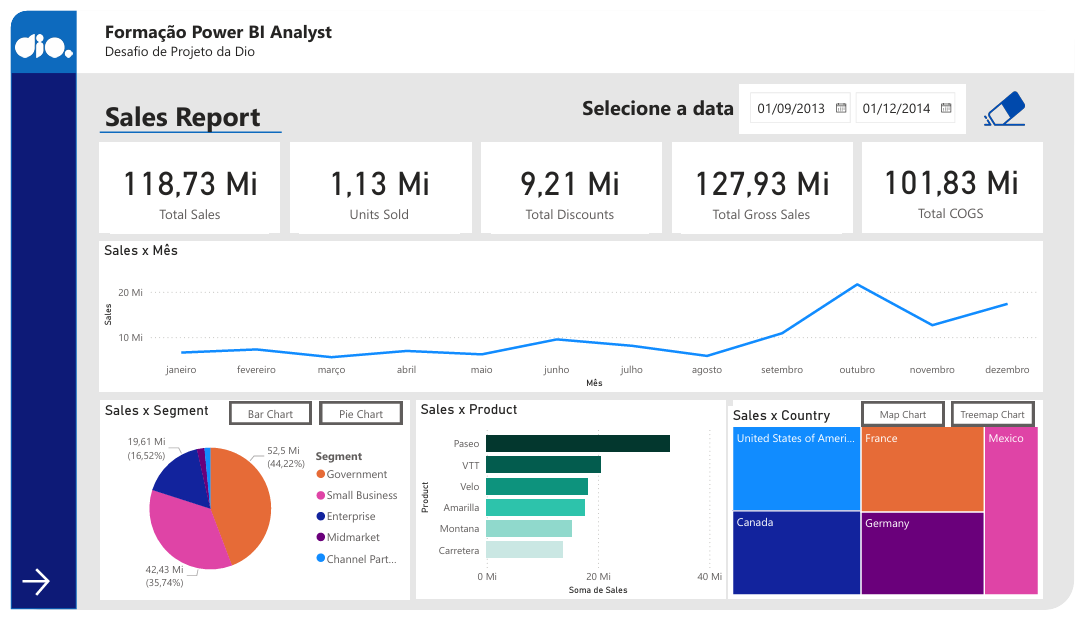

The dashboard page shown, as its layout file describes it:
{"tool":"powerbi","page":{"name":"Página 1","canvas":[1280,720],"ordinal":0},"visuals":[{"type":"shape","box":[0,0,1280.2,721.4],"z":0},{"type":"shape","box":[106.6,133.9,218.9,24.5],"z":0,"group":"g5"},{"type":"shape","box":[106.6,158.4,217,109.4],"z":0,"group":"g1"},{"type":"pieChart","title":"Sales x Segment","fields":{"Category":["financials.Segment"],"Y":["Sum(financials. Sales)"]},"box":[107.7,469.9,372.6,239.3],"z":0,"group":"g4"},{"type":"shape","box":[0,0,79.2,720],"z":1000},{"type":"textbox","box":[682.6,93.6,194.4,49],"z":1000,"group":"g2"},{"type":"textbox","box":[108,97.9,217.4,54.7],"z":1000,"group":"g5"},{"type":"shape","box":[335.6,158.4,218.7,109.4],"z":1000,"group":"g1"},{"type":"clusteredBarChart","title":"Sales x Segment","fields":{"Y":["Sum(financials. Sales)"],"Category":["financials.Segment"]},"box":[106.6,469.4,374.4,239],"z":1000,"group":"g4"},{"type":"map","title":"Sales x Country","fields":{"Category":["financials.Country"],"Size":["Sum(financials. Sales)"]},"box":[868.3,477.2,372.9,231.3],"z":1000,"group":"g3"},{"type":"actionButton","title":"Botão - Treemap","box":[1132.8,470.4,99.6,30.3],"z":1500,"group":"g3"},{"type":"shape","box":[0,0,79.2,74.9],"z":2000},{"type":"slicer","fields":{"Values":["financials.Date"]},"box":[877,87.8,272.2,59],"z":2000,"group":"g2"},{"type":"shape","box":[566.3,158.4,217,109.4],"z":2000,"group":"g1"},{"type":"actionButton","title":"Botão - Pie","box":[371.2,470.1,99,28],"z":2000,"group":"g4"},{"type":"actionButton","title":"Botão - Map","box":[1024.6,470.4,99.6,30.3],"z":2000,"group":"g3"},{"type":"image","title":"Logo_Dio","box":[0,8.6,79.2,66.2],"z":3000},{"type":"shape","box":[795.3,158.4,217,109.4],"z":3000,"group":"g1"},{"type":"actionButton","title":"Botão - Bar","box":[262.3,470.1,99,28],"z":3000,"group":"g4"},{"type":"image","title":"Clean","box":[1149.2,87.8,92.2,59],"z":3500,"group":"g2"},{"type":"shape","box":[79.2,0,1201,74.9],"z":4000},{"type":"actionButton","box":[1163.6,87.8,69.1,59],"z":4000,"group":"g2"},{"type":"shape","box":[1024.3,158.4,217,109.4],"z":4000,"group":"g1"},{"type":"textbox","box":[108,4.3,362.9,66.2],"z":5000},{"type":"card","fields":{"Values":["Sum(financials.COGS)"]},"box":[1034,158.4,194.4,109.4],"z":5000,"group":"g1"},{"type":"group","id":"g1","title":"Cartões","box":[106.6,158.4,1134.7,109.9],"z":6000},{"type":"card","fields":{"Values":["Sum(financials.Gross Sales)"]},"box":[806.7,158.9,193.1,109.4],"z":6000,"group":"g1"},{"type":"card","fields":{"Values":["Sum(financials.Discounts)"]},"box":[577.7,158.9,189.7,109.4],"z":7000,"group":"g1"},{"type":"shape","box":[108,277.9,1134.7,181.4],"z":7000},{"type":"card","fields":{"Values":["Sum(financials.Units Sold)"]},"box":[347,158.9,193.1,109.4],"z":8000,"group":"g1"},{"type":"shape","box":[108,469.4,373,239],"z":8000},{"type":"card","fields":{"Values":["Sum(financials. Sales)"]},"box":[119.7,158.9,191.4,109.4],"z":9000,"group":"g1"},{"type":"shape","box":[488.2,469.4,373,239],"z":9000},{"type":"shape","box":[869.8,469.4,373,239],"z":10000},{"type":"lineChart","title":"Sales x Mês","fields":{"Category":["financials.Date.Variation.Hierarquia de datas.Mês"],"Y":["Sum(financials. Sales)"]},"box":[106.6,277.9,1134.7,181.4],"z":11000},{"type":"clusteredBarChart","title":"Sales x Product","fields":{"Y":["Sum(financials. Sales)"],"Category":["financials.Product"]},"box":[488.2,469.4,373,239],"z":12000},{"type":"group","id":"g2","title":"Filtro por data","box":[682.6,87.8,558.7,59],"z":13000},{"type":"group","id":"g3","title":"Sales x Country","box":[864.3,470.4,378.3,238],"z":14000},{"type":"group","id":"g4","title":"Sales x Segment","box":[106.6,469.4,374.4,239.8],"z":15000},{"type":"group","id":"g5","title":"Title Report","box":[106.6,97.9,218.9,60.5],"z":16000},{"type":"actionButton","title":"Botão - Seta","box":[8.2,666.4,56.1,42.9],"z":17000}]}

Visuals, with their boxes on the page's 1280x720 design canvas (x1, y1, x2, y2). These are canvas units, not pixel positions in the 1086x629 screenshot, which may show the page scaled, cropped or inside an application window:
shape: detection(0, 0, 1280, 721)
shape: detection(107, 134, 326, 158)
shape: detection(107, 158, 324, 268)
"Sales x Segment" pieChart: detection(108, 470, 480, 709)
shape: detection(0, 0, 79, 720)
textbox: detection(683, 94, 877, 143)
textbox: detection(108, 98, 325, 153)
shape: detection(336, 158, 554, 268)
"Sales x Segment" clusteredBarChart: detection(107, 469, 481, 708)
"Sales x Country" map: detection(868, 477, 1241, 708)
"Botão - Treemap" actionButton: detection(1133, 470, 1232, 501)
shape: detection(0, 0, 79, 75)
slicer - financials.Date: detection(877, 88, 1149, 147)
shape: detection(566, 158, 783, 268)
"Botão - Pie" actionButton: detection(371, 470, 470, 498)
"Botão - Map" actionButton: detection(1025, 470, 1124, 501)
"Logo_Dio" image: detection(0, 9, 79, 75)
shape: detection(795, 158, 1012, 268)
"Botão - Bar" actionButton: detection(262, 470, 361, 498)
"Clean" image: detection(1149, 88, 1241, 147)
shape: detection(79, 0, 1280, 75)
actionButton: detection(1164, 88, 1233, 147)
shape: detection(1024, 158, 1241, 268)
textbox: detection(108, 4, 471, 70)
card - Sum(financials.COGS): detection(1034, 158, 1228, 268)
"Cartões" group: detection(107, 158, 1241, 268)
card - Sum(financials.Gross Sales): detection(807, 159, 1000, 268)
card - Sum(financials.Discounts): detection(578, 159, 767, 268)
shape: detection(108, 278, 1243, 459)
card - Sum(financials.Units Sold): detection(347, 159, 540, 268)
shape: detection(108, 469, 481, 708)
card - Sum(financials. Sales): detection(120, 159, 311, 268)
shape: detection(488, 469, 861, 708)
shape: detection(870, 469, 1243, 708)
"Sales x Mês" lineChart: detection(107, 278, 1241, 459)
"Sales x Product" clusteredBarChart: detection(488, 469, 861, 708)
"Filtro por data" group: detection(683, 88, 1241, 147)
"Sales x Country" group: detection(864, 470, 1243, 708)
"Sales x Segment" group: detection(107, 469, 481, 709)
"Title Report" group: detection(107, 98, 326, 158)
"Botão - Seta" actionButton: detection(8, 666, 64, 709)
